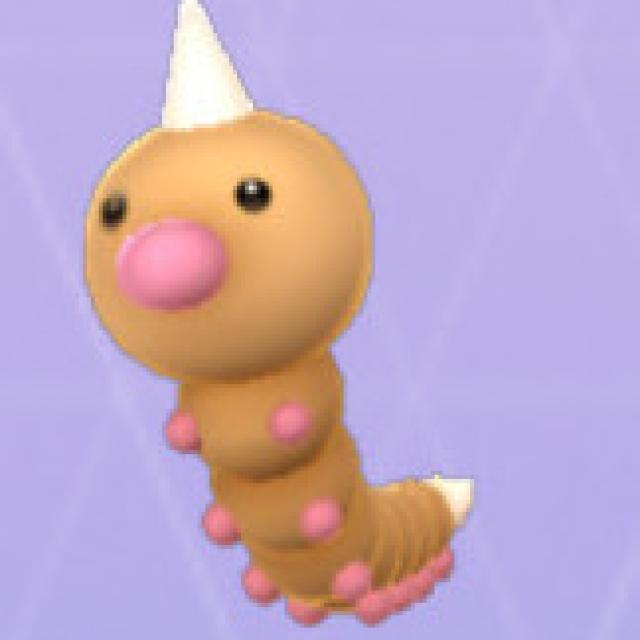Weedle: (86, 8, 464, 628)
